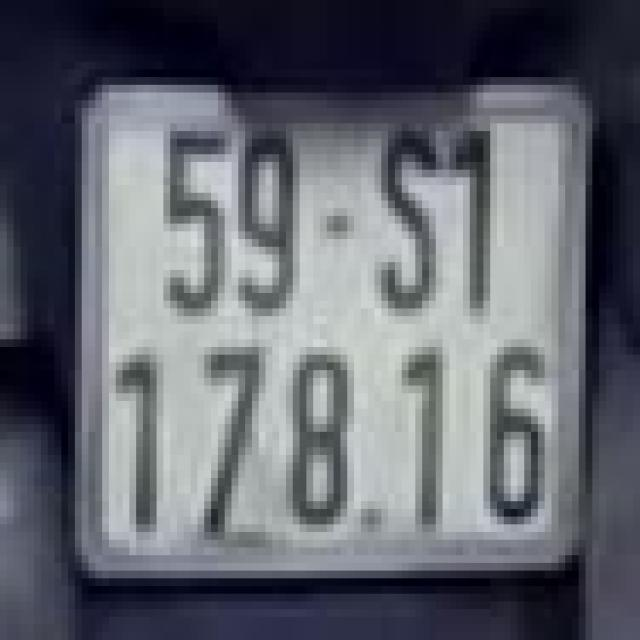1: (109, 343, 177, 544), (392, 339, 459, 540), (446, 116, 507, 324)
5: (153, 112, 235, 320)
6: (473, 328, 555, 528)
7: (194, 335, 269, 536)
8: (276, 343, 364, 536)
9: (232, 116, 313, 324)
S: (378, 116, 446, 324)
